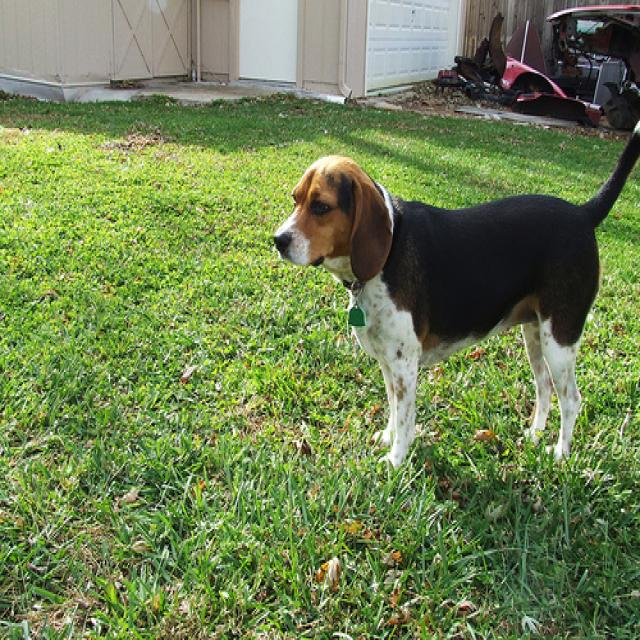dog-beagle: (268, 116, 637, 478)
